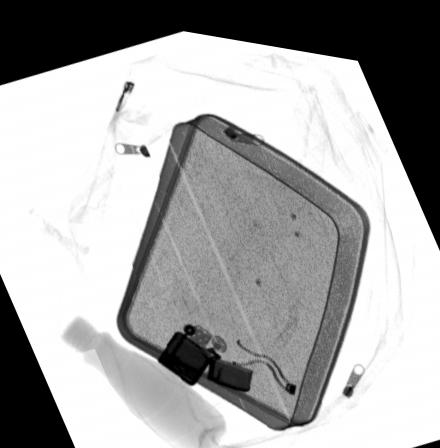Lighter: (157, 314, 254, 382)
